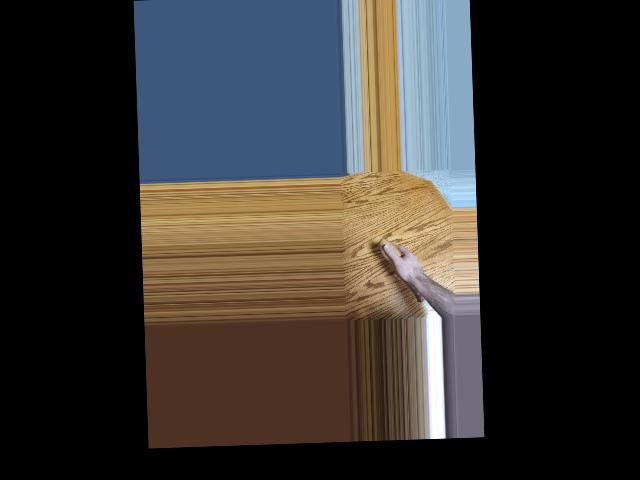sweet_potato: (379, 236, 425, 305)
